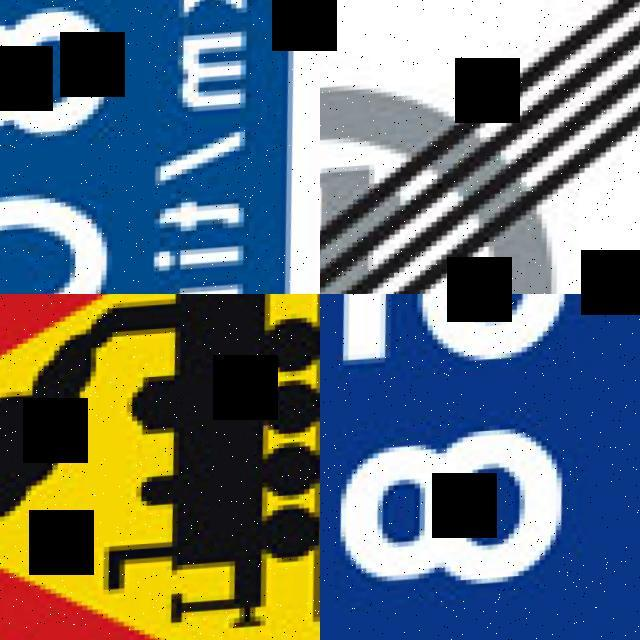102: (0, 0, 320, 294)
111: (320, 0, 640, 294)
144: (0, 294, 320, 640)
Main highways: (320, 294, 640, 640)
